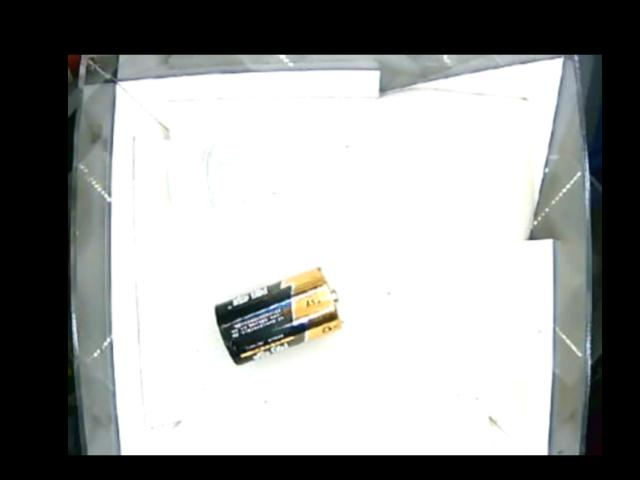Battery: (212, 267, 344, 366)
Bottle: (165, 127, 340, 221)
